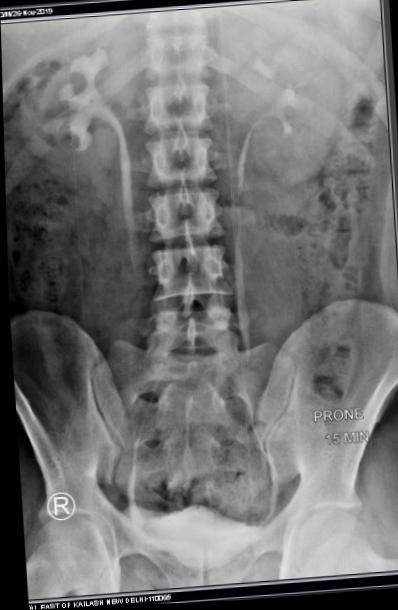left kidney: (230, 17, 352, 196)
right kidney: (7, 23, 144, 199)
vertebrae: (140, 80, 214, 136)
